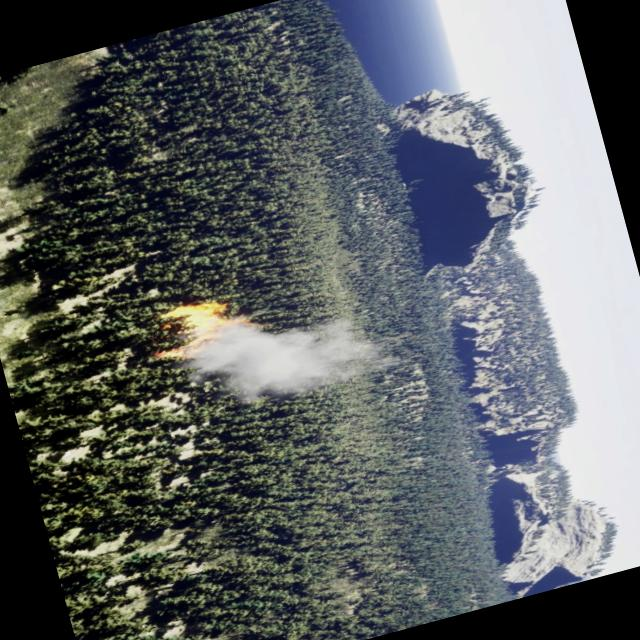fire: (147, 284, 266, 362)
smoke: (169, 289, 387, 426)
